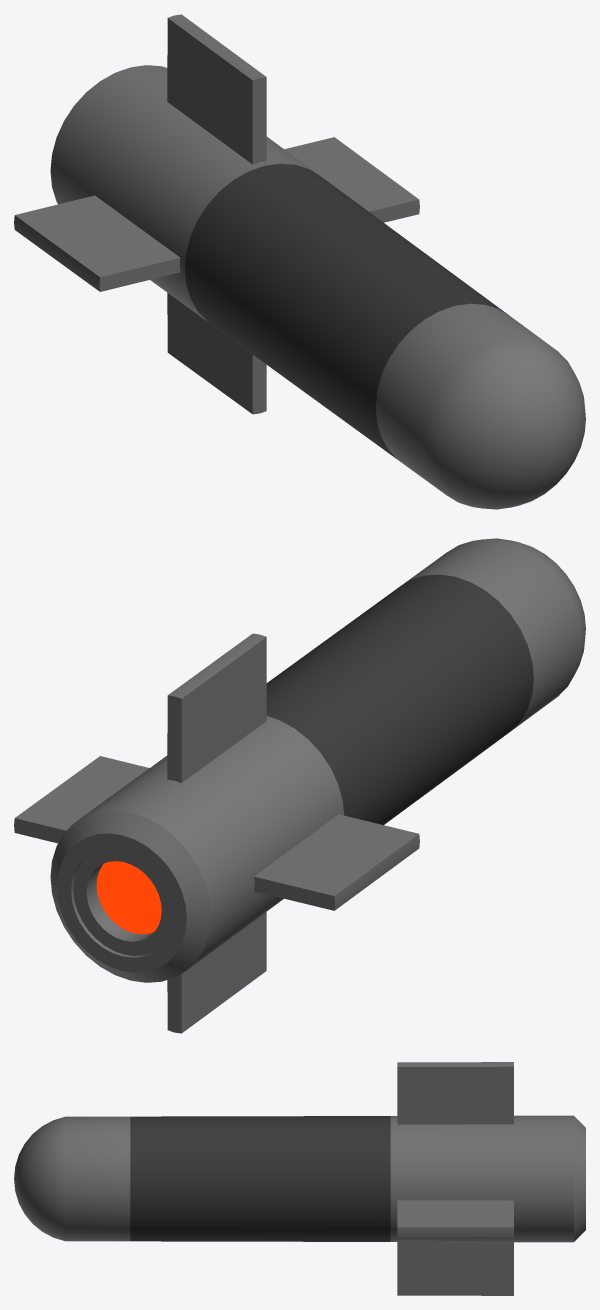
File: rocket_projectile.glb
3 views of the same model, one above another, from view 1: azimuth 30°, elevation 25°; view 2: azimuth 150°, elevation 25°; view 3: azimuth 270°, elevation 25° (orthographic). The views are drawn at different scales.
Visible parts, largest first — view 1: Sphere; view 2: Sphere; view 3: Sphere.
Part boxes in pixels (x1=…): Sphere: x1=14, y1=14, x2=585, y2=509; Sphere: x1=14, y1=538, x2=585, y2=1033; Sphere: x1=14, y1=1062, x2=585, y2=1295.
Size of the model in its own units: 3.99 by 3.99 by 9.
